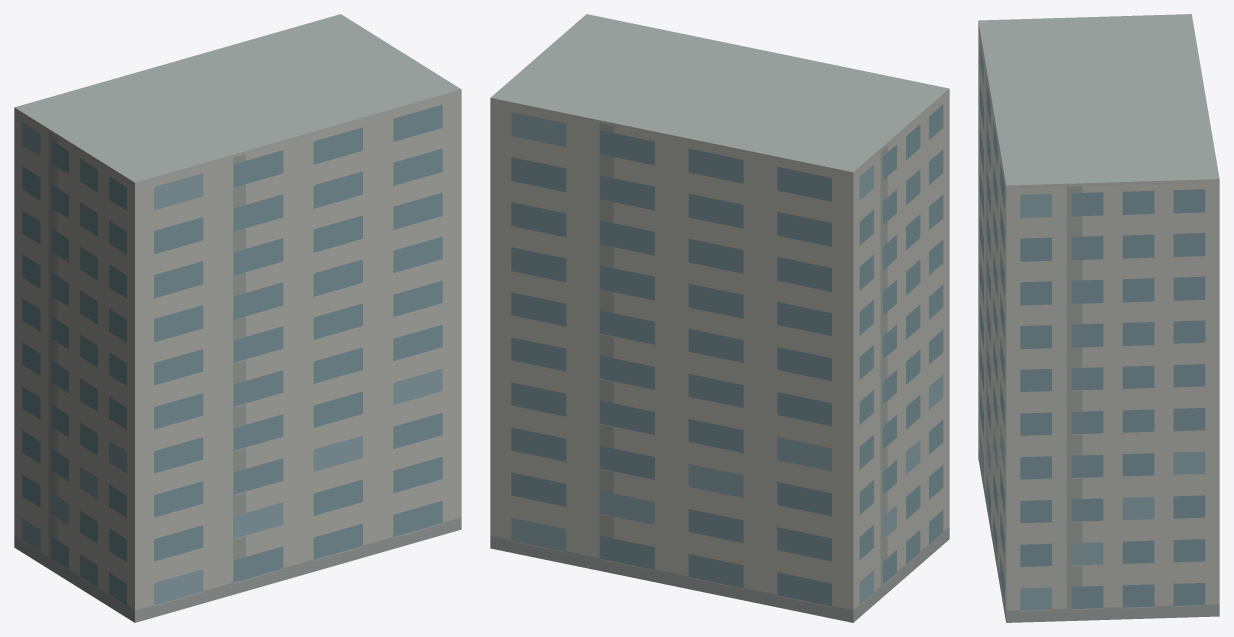
Rendered from residential-347d52aa-6c40-49eb-b389-d5e7ec5e7274.glb.
3 renders of one model, left to right at view 1: azimuth 30°, elevation 25°; view 2: azimuth 150°, elevation 25°; view 3: azimuth 270°, elevation 25°, orthographic. The views are drawn at different scales.
Parts seen in each view (by area): view 1: residential-347d52aa-6c40-49eb-b389-d5e7ec5e7274.tmp; view 2: residential-347d52aa-6c40-49eb-b389-d5e7ec5e7274.tmp; view 3: residential-347d52aa-6c40-49eb-b389-d5e7ec5e7274.tmp.
Part boxes in pixels (x1,y1,x2,y2): residential-347d52aa-6c40-49eb-b389-d5e7ec5e7274.tmp: (14, 14, 461, 622); residential-347d52aa-6c40-49eb-b389-d5e7ec5e7274.tmp: (490, 14, 949, 622); residential-347d52aa-6c40-49eb-b389-d5e7ec5e7274.tmp: (978, 14, 1219, 622).
Size of the model in its own units: 31.14 by 37 by 18.51.
